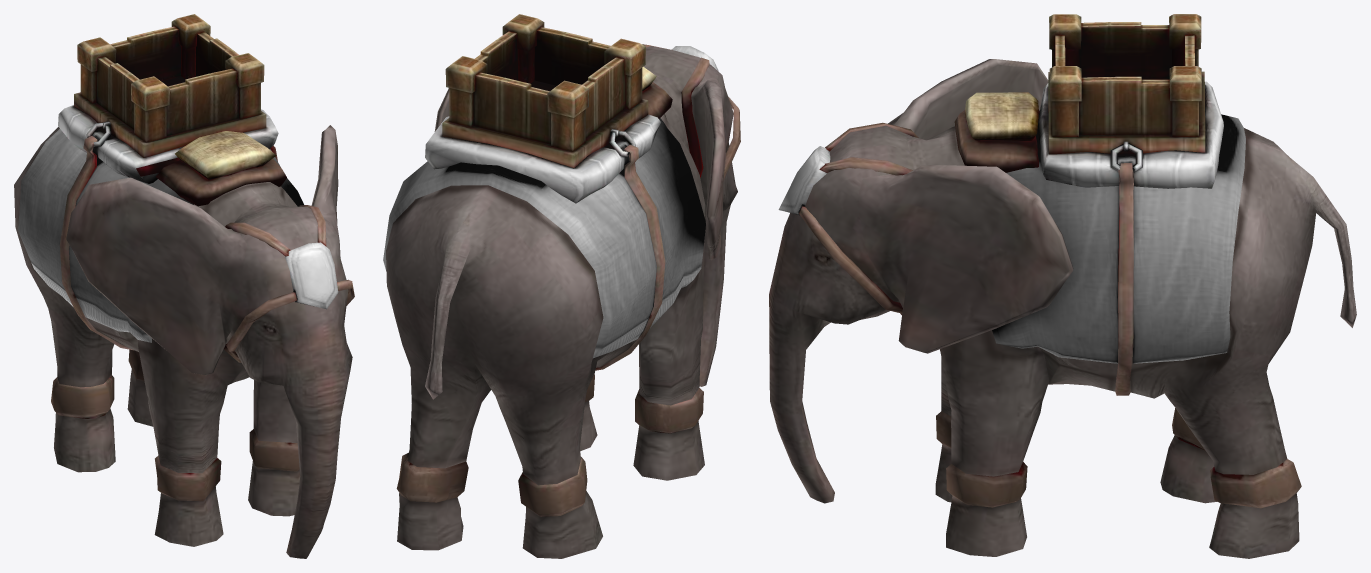
File: body-base.glb
3 renders of one model, left to right at view 1: azimuth 30°, elevation 25°; view 2: azimuth 150°, elevation 25°; view 3: azimuth 270°, elevation 25°, orthographic. The views are drawn at different scales.
Size of the model in its own units: 2.63 by 4.02 by 4.54.
2 materials, 2 textured.
